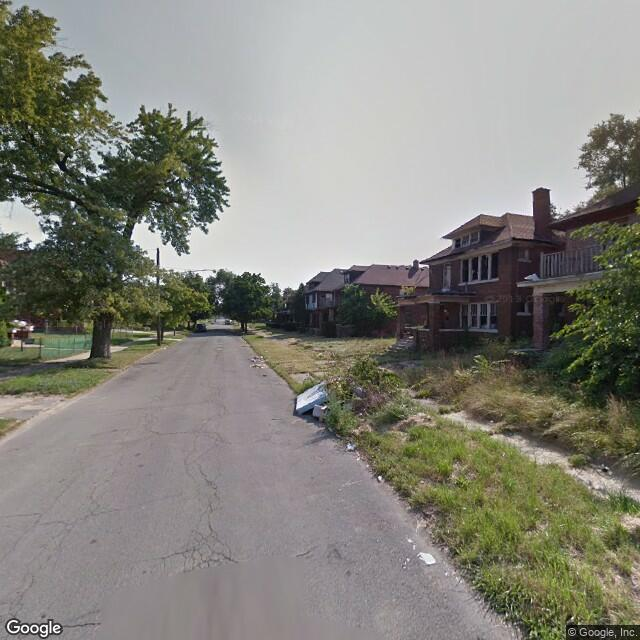litter: (288, 381, 342, 421), (342, 438, 361, 455), (370, 470, 389, 484)
